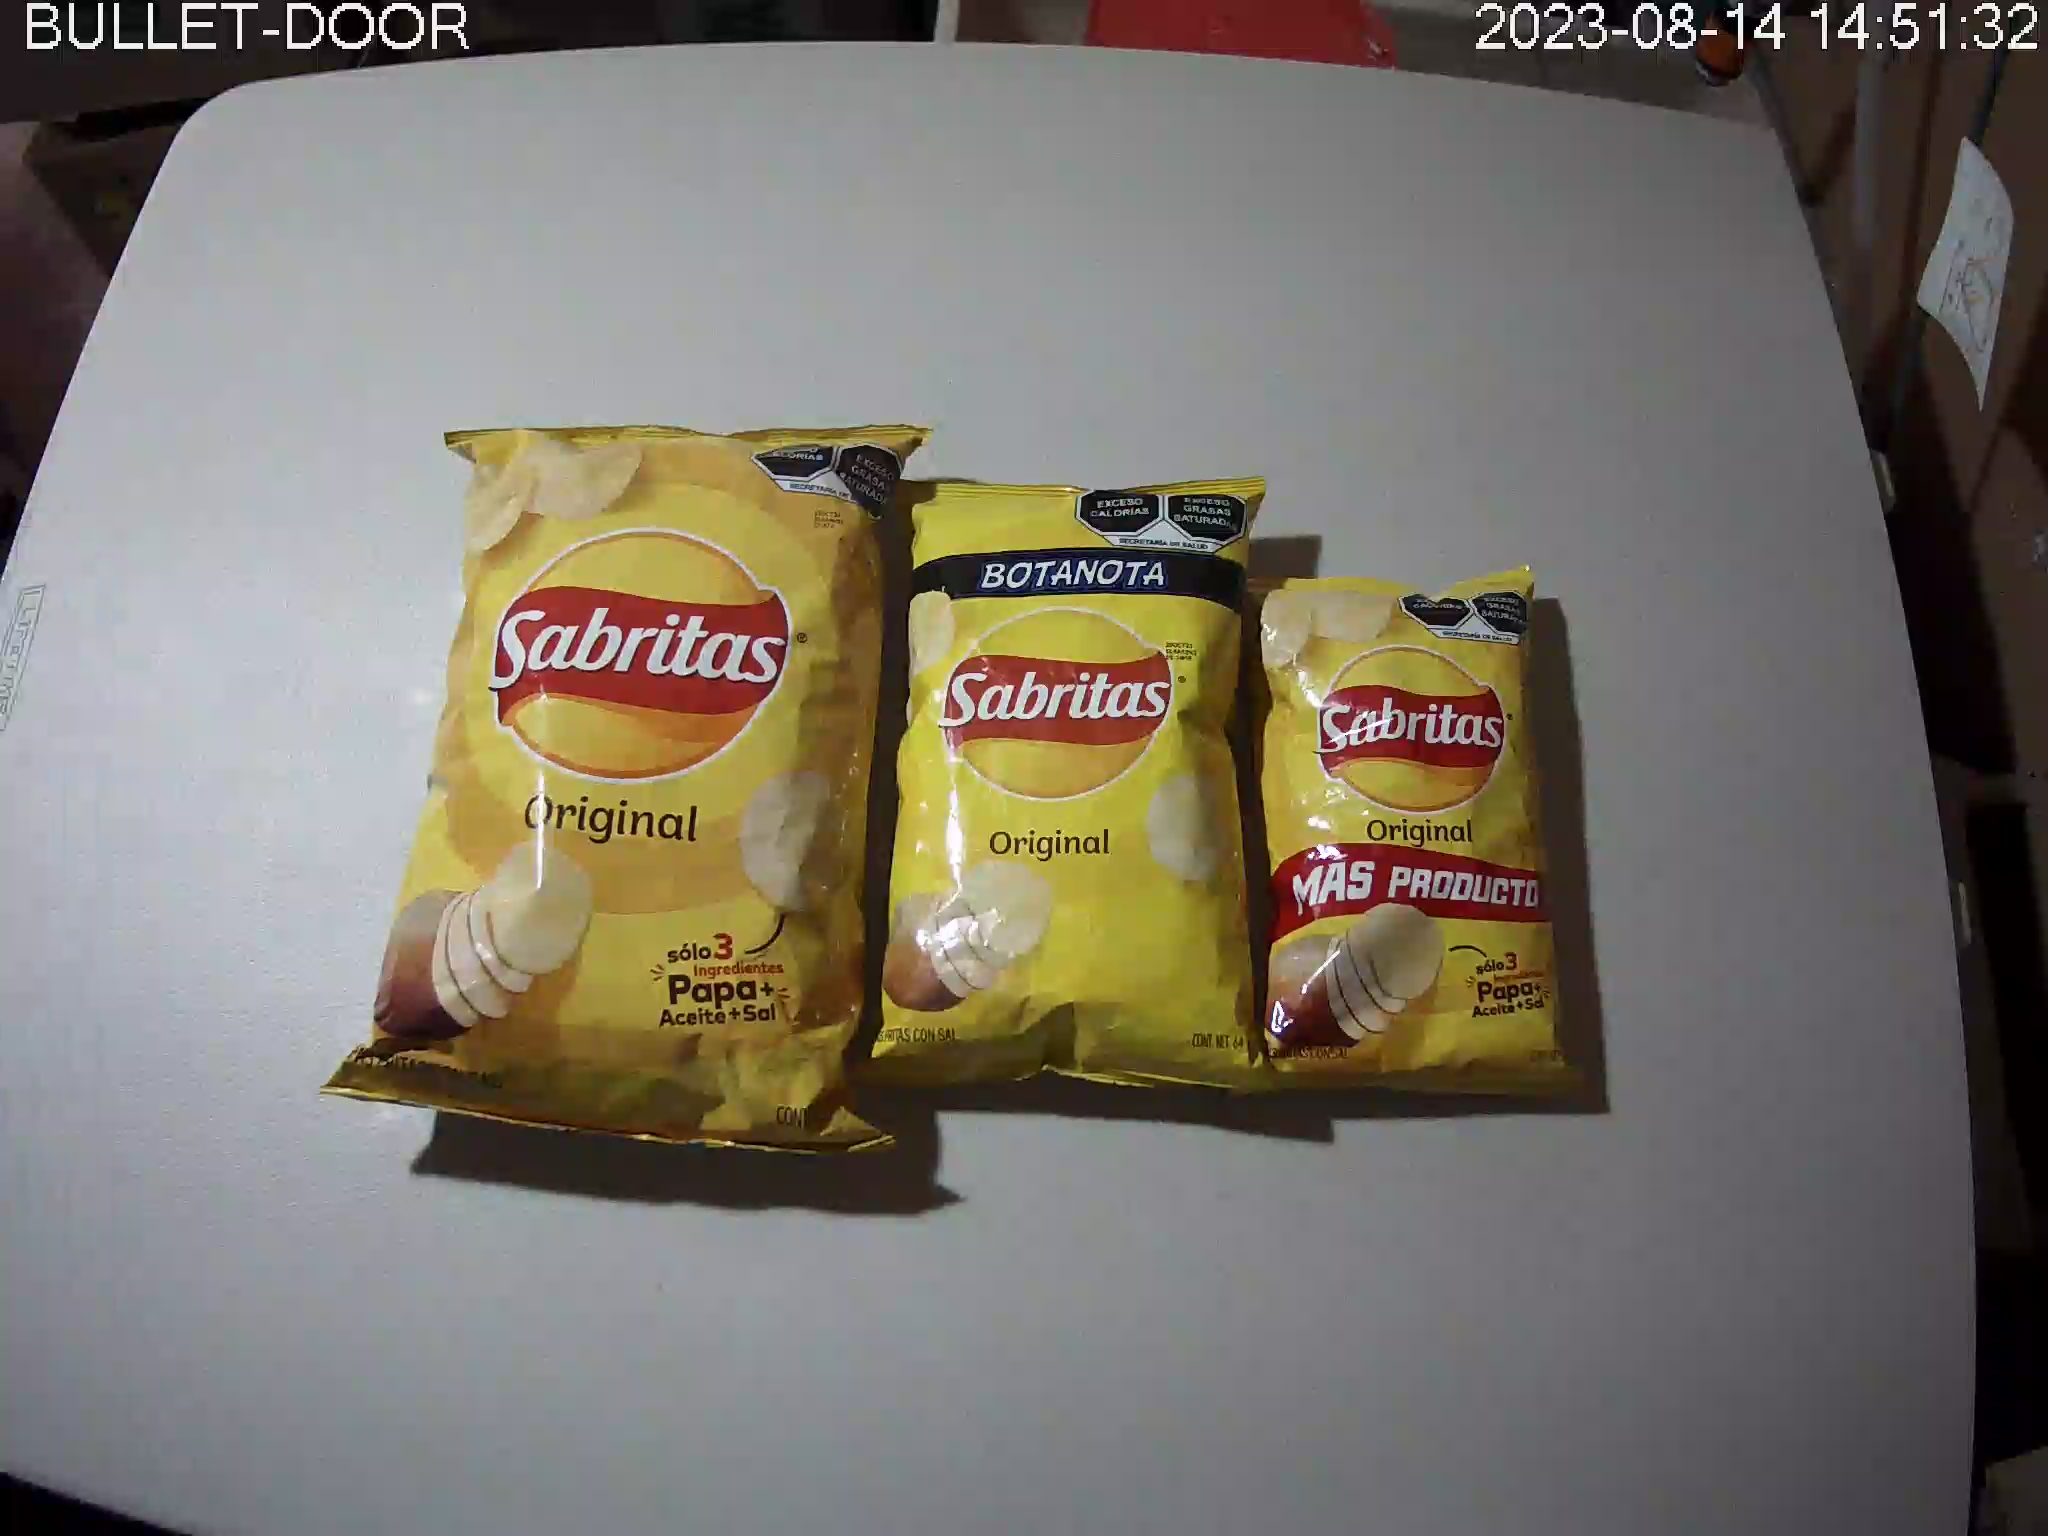Sabritas_160_F: (319, 421, 922, 1167)
Sabritas_45_F: (1245, 565, 1588, 1099)
Sabritas_64_F: (879, 473, 1268, 1105)
